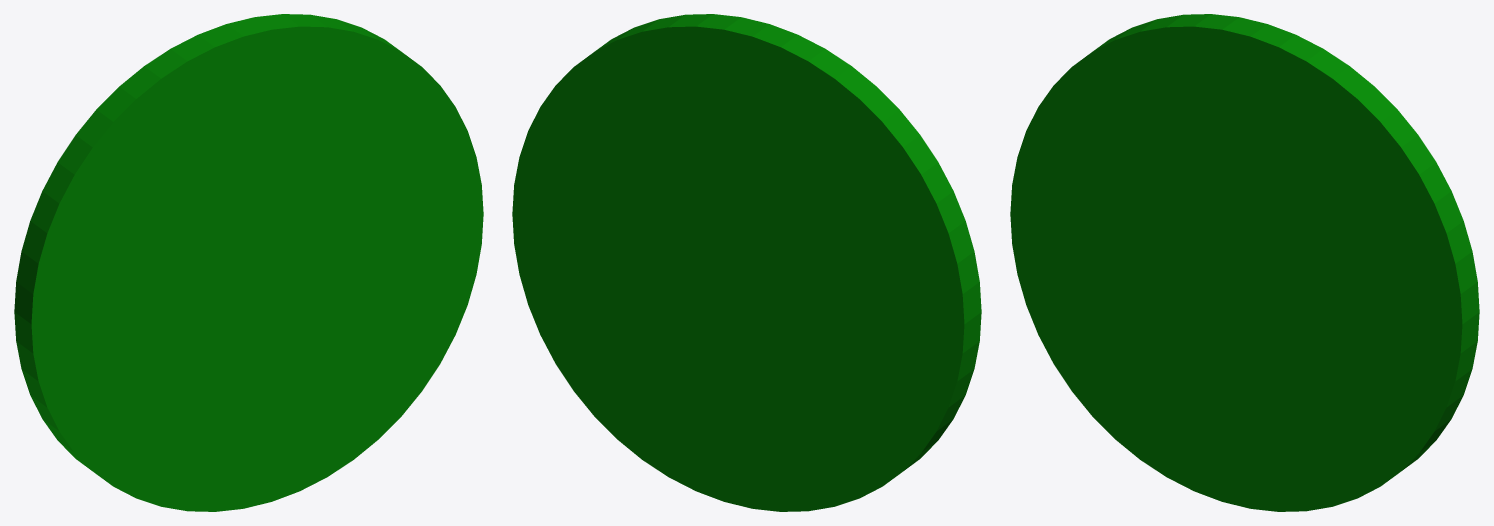
Rendered from regional_membrane_settings_Pump1.dc_membrane.glb.
The picture shows the model from 3 angles, left to right: view 1: azimuth 30°, elevation 25°; view 2: azimuth 150°, elevation 25°; view 3: azimuth 330°, elevation 25°; orthographic projection.
Visible parts, largest first — view 1: world; view 2: world; view 3: world.
Boxes of the visible parts, x1,y1,x2,y2 form: world: (14,14,483,511); world: (512,14,981,511); world: (1010,14,1479,511).
Size of the model in its own units: 0.152 by 0.1517 by 0.01.
